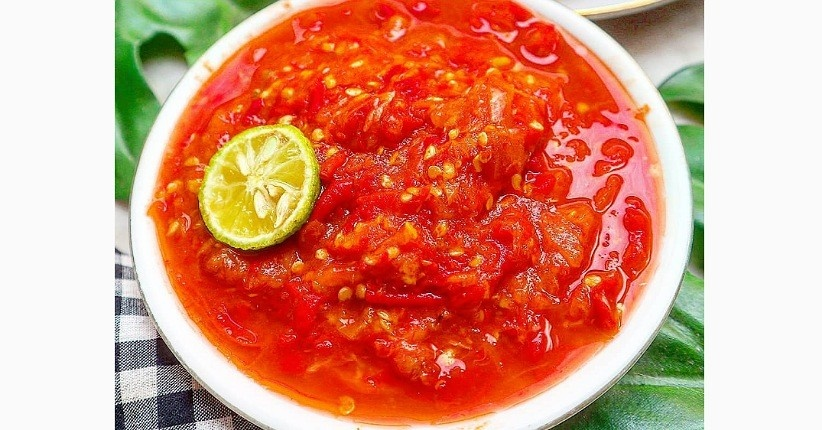sambal: (173, 22, 612, 384)
